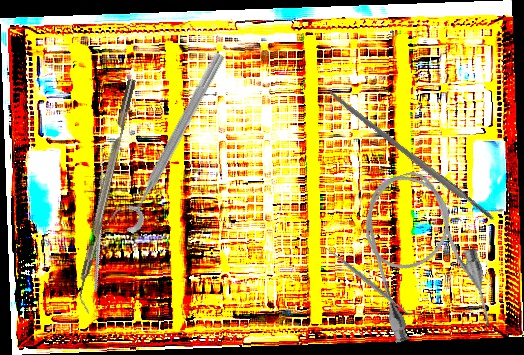Cannula: (349, 160, 499, 354)
Chopper: (70, 78, 147, 314)
Fixation Ring: (106, 44, 231, 236)
Hook Surgical: (29, 144, 164, 293)
Scalpel Handle: (326, 88, 497, 225)
Spatula Surgical: (319, 241, 415, 321)
